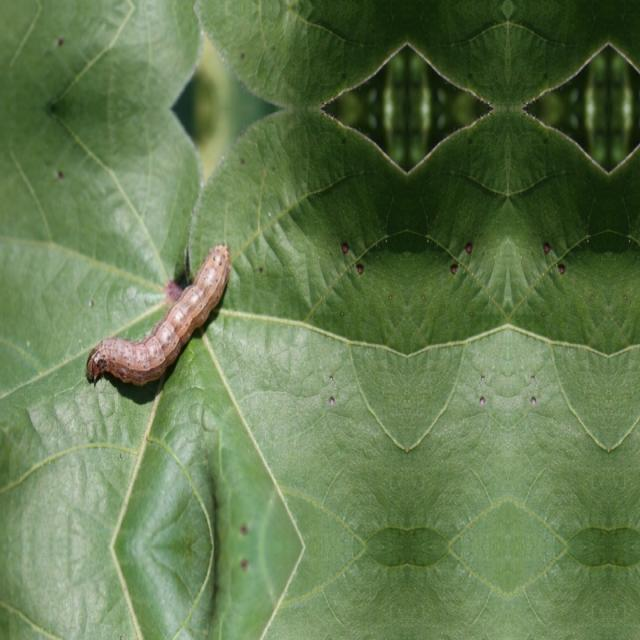armyworm: (86, 241, 230, 388)
